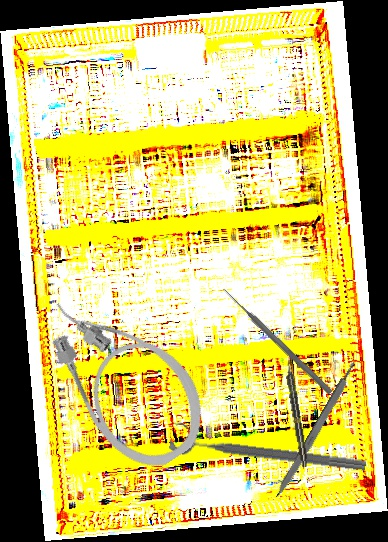Cannula: (25, 264, 225, 486)
Fixation Ring: (168, 419, 369, 477)
Handpiece: (283, 358, 310, 469)
Pusher: (219, 285, 335, 396)
Scalpel Handle: (273, 359, 361, 501)
